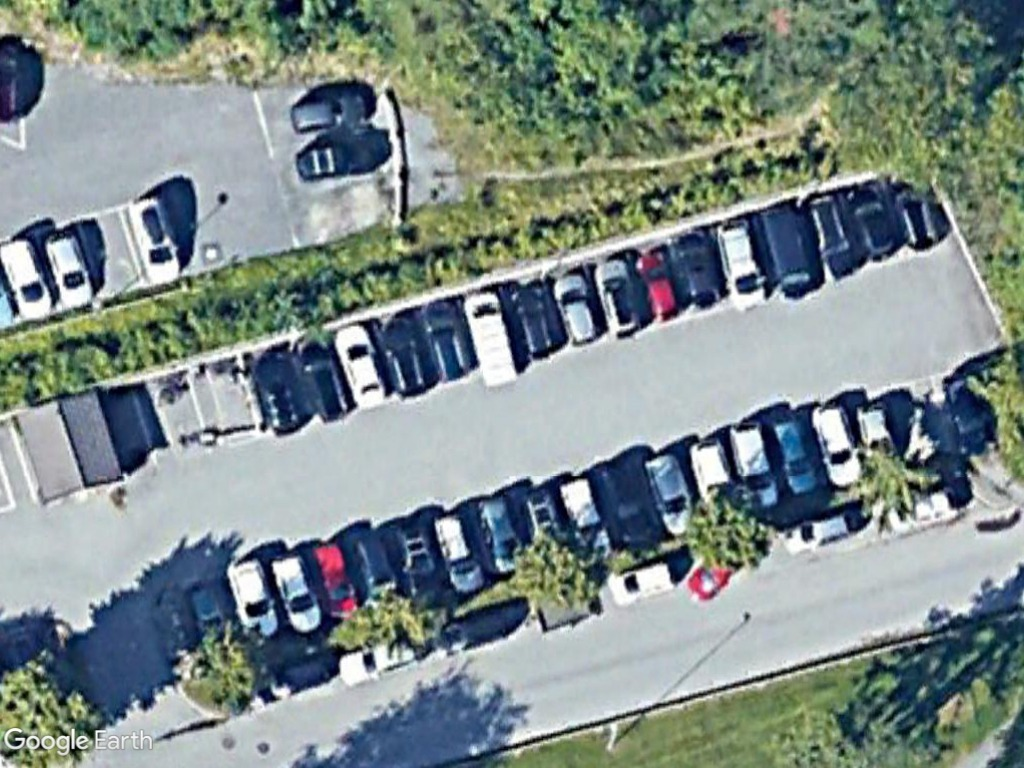car: (125, 196, 186, 291), (332, 316, 390, 411), (808, 398, 866, 493), (715, 218, 771, 315), (220, 556, 281, 644), (640, 449, 698, 539), (430, 508, 487, 598), (0, 235, 55, 324), (42, 227, 98, 313), (805, 189, 856, 281), (268, 550, 323, 635), (593, 253, 646, 339), (768, 415, 822, 498), (552, 268, 604, 350), (632, 248, 684, 329), (286, 88, 370, 137)
van: (460, 288, 520, 391), (757, 202, 818, 302)
